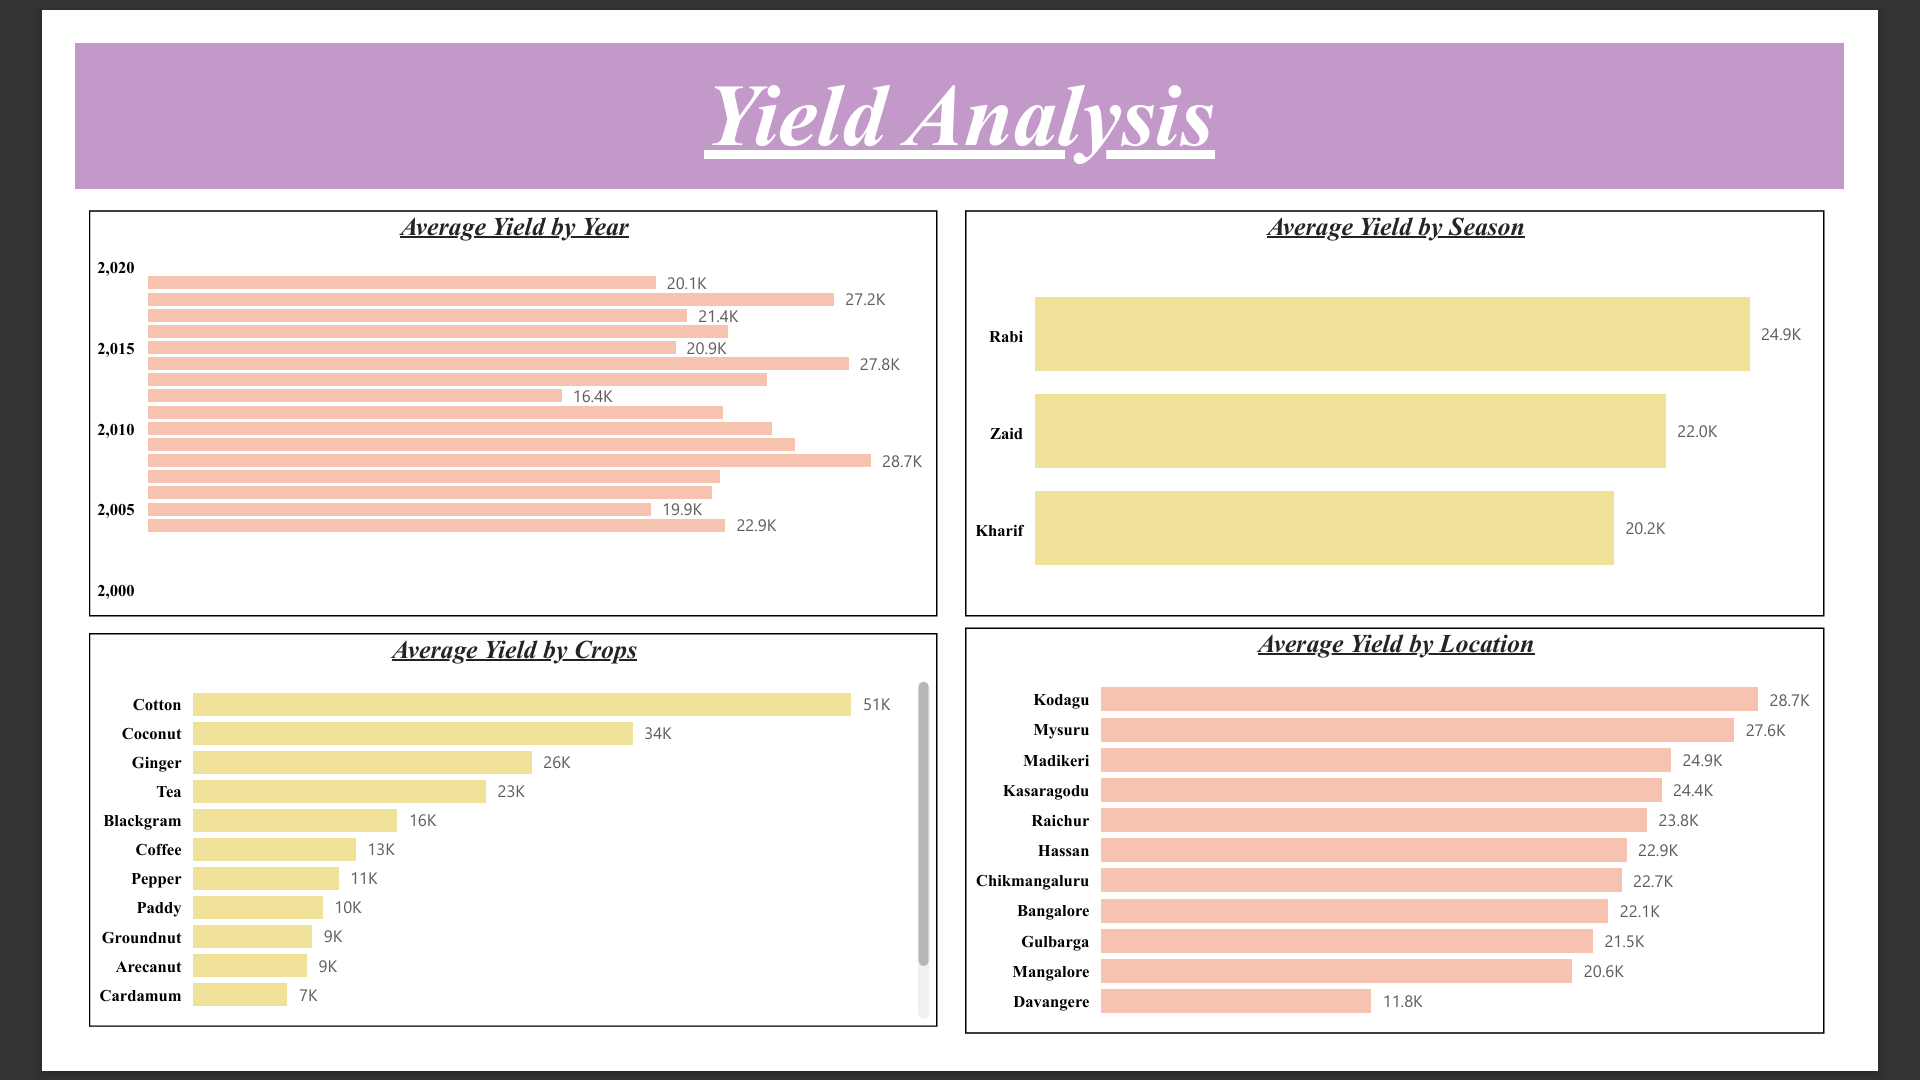

The dashboard page shown, as its layout file describes it:
{"tool":"powerbi","page":{"name":"Yield Analysis","canvas":[1280,720],"ordinal":3},"visuals":[{"type":"shape","box":[0,0,1280.3,105.2],"z":0},{"type":"barChart","title":"Average Yield by Year","fields":{"Category":["AGGRICULTURE.YEAR"],"Y":["Avg(AGGRICULTURE.YEILDS)"]},"box":[9.8,121.1,613.9,293.5],"z":1000},{"type":"barChart","title":"Average Yield by Season","fields":{"Category":["AGGRICULTURE.SEASON"],"Y":["Avg(AGGRICULTURE.YEILDS)"]},"box":[644.4,121.1,621.2,293.5],"z":2000},{"type":"barChart","title":"Average Yield by Crops","fields":{"Category":["AGGRICULTURE.CROPS"],"Y":["Avg(AGGRICULTURE.YEILDS)"]},"box":[9.8,426.8,613.9,284.9],"z":3000},{"type":"barChart","title":"Average Yield by Location","fields":{"Category":["AGGRICULTURE.LOCATION"],"Y":["Avg(AGGRICULTURE.YEILDS)"]},"box":[644.4,423.1,621.2,293.5],"z":4000}]}

Visuals, with their boxes in screenshot pixels (x1, y1, x2, y2), scaled from the page's 1280x720 canvas onto the 1920x1080 screenshot:
shape: 0 0 1919 158
"Average Yield by Year" barChart: 15 182 936 622
"Average Yield by Season" barChart: 967 182 1898 622
"Average Yield by Crops" barChart: 15 640 936 1068
"Average Yield by Location" barChart: 967 635 1898 1075
